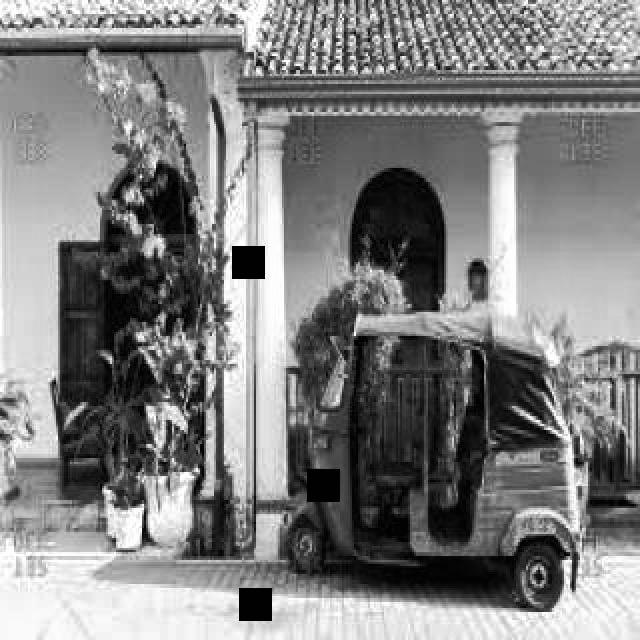Auto-Rickshaw: (324, 310, 592, 632)
